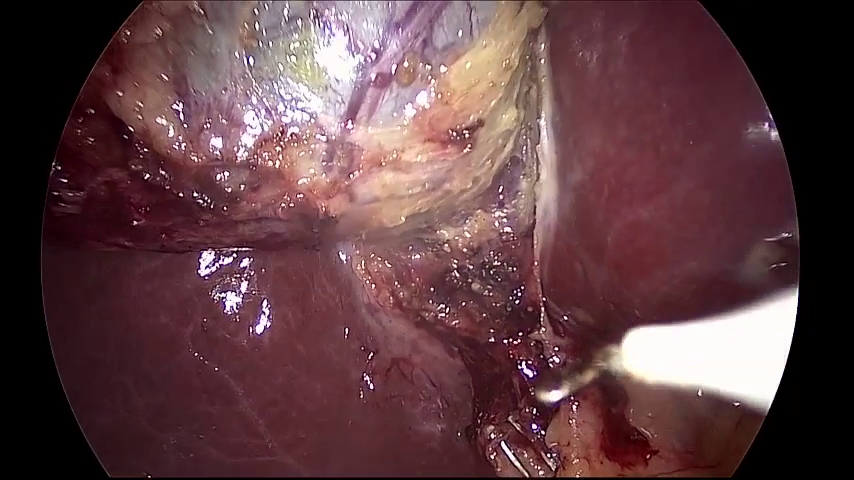lhook: (535, 290, 798, 408)
